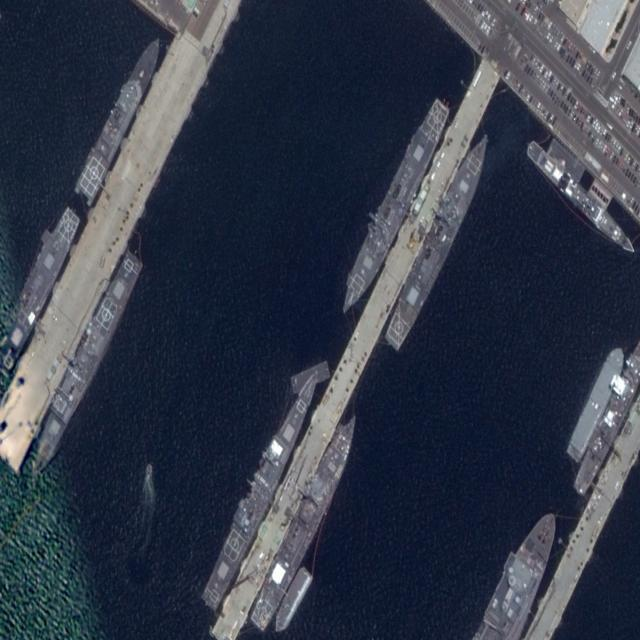Auxiliary Ships: (473, 496, 570, 640)
Cruiser: (199, 361, 326, 617), (23, 247, 147, 486)
Destroyer: (334, 92, 454, 324), (248, 407, 364, 638), (382, 123, 495, 357), (1, 200, 81, 372)
Other Ship: (72, 32, 166, 209), (524, 137, 639, 259), (565, 339, 627, 463), (270, 562, 314, 638)
Other Warship: (569, 346, 640, 500)
